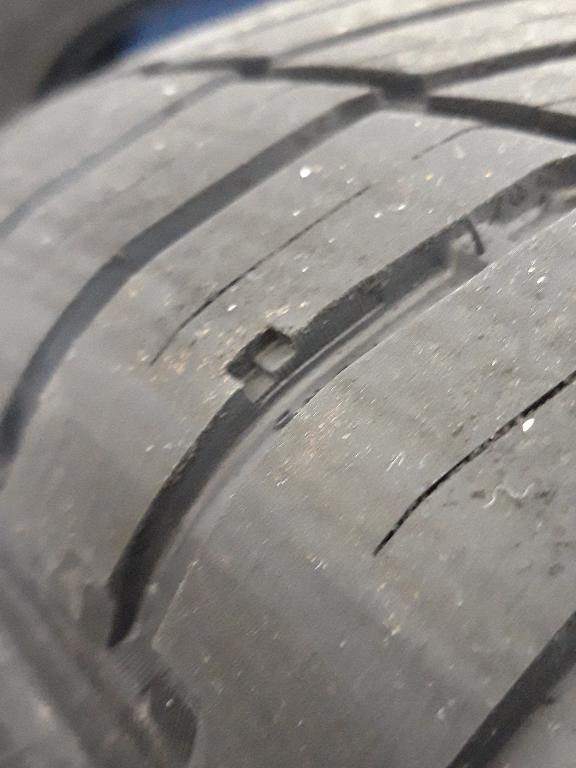temoin:50: (214, 296, 340, 420)
